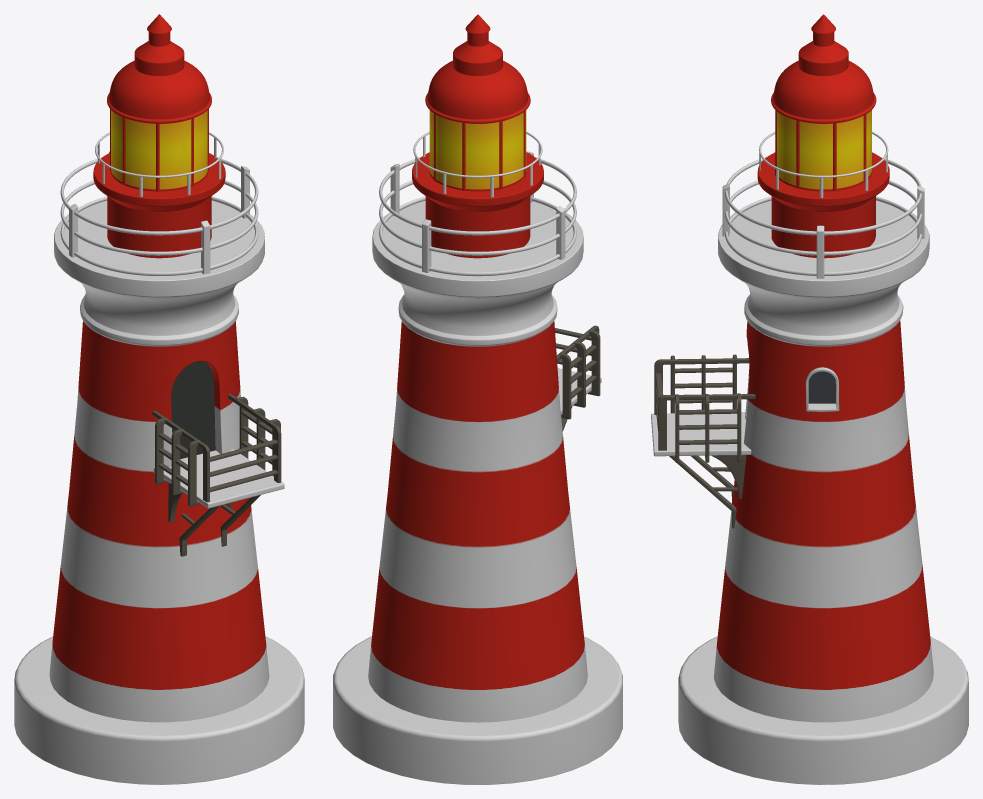
File: Leuchtturm.gltf
The picture shows the model from 3 angles, left to right: view 1: azimuth 30°, elevation 25°; view 2: azimuth 150°, elevation 25°; view 3: azimuth 270°, elevation 25°; orthographic projection.
Parts seen in each view (by area): view 1: node_id30; view 2: node_id30; view 3: node_id30.
Boxes of the visible parts, <box> form: node_id30: <box>14,14,304,784</box>; node_id30: <box>333,14,622,784</box>; node_id30: <box>651,14,968,784</box>.
Bounding box in the file's own units: 0.2464 × 0.6641 × 0.2696.
1 material, 1 textured.
